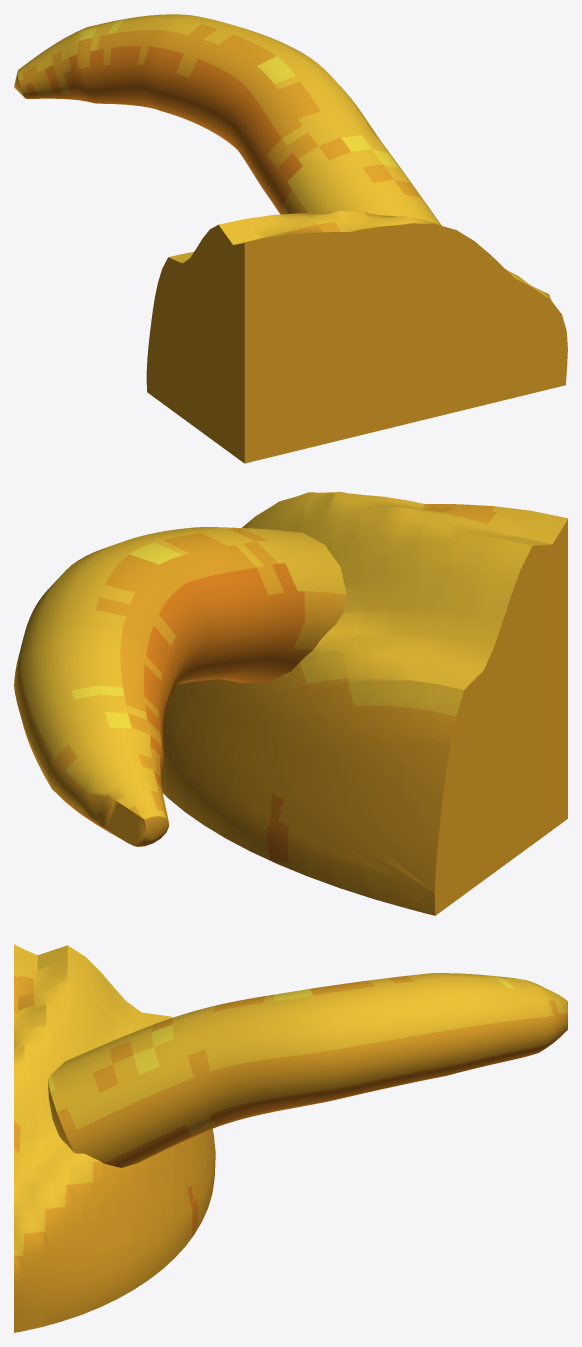
File: lemon_beetle_tr.glb
3 renders of one model, top to bottom at view 1: azimuth 30°, elevation 25°; view 2: azimuth 150°, elevation 25°; view 3: azimuth 270°, elevation 25°, orthographic. The views are drawn at different scales.
Parts seen in each view (by area): view 1: lemon_beetle_tr_lemon_body, lemon_beetle_tr_lemon_horn+1; view 2: lemon_beetle_tr_lemon_body, lemon_beetle_tr_lemon_horn+1; view 3: lemon_beetle_tr_lemon_horn+1, lemon_beetle_tr_lemon_body.
Boxes of the visible parts, <box> form: lemon_beetle_tr_lemon_body: <box>146,211,567,463</box>; lemon_beetle_tr_lemon_horn+1: <box>14,14,441,225</box>; lemon_beetle_tr_lemon_body: <box>161,492,567,915</box>; lemon_beetle_tr_lemon_horn+1: <box>14,527,346,846</box>; lemon_beetle_tr_lemon_horn+1: <box>48,973,567,1167</box>; lemon_beetle_tr_lemon_body: <box>14,944,215,1332</box>.
Bounding box in the file's own units: 19.41 × 14.93 × 27.98.
